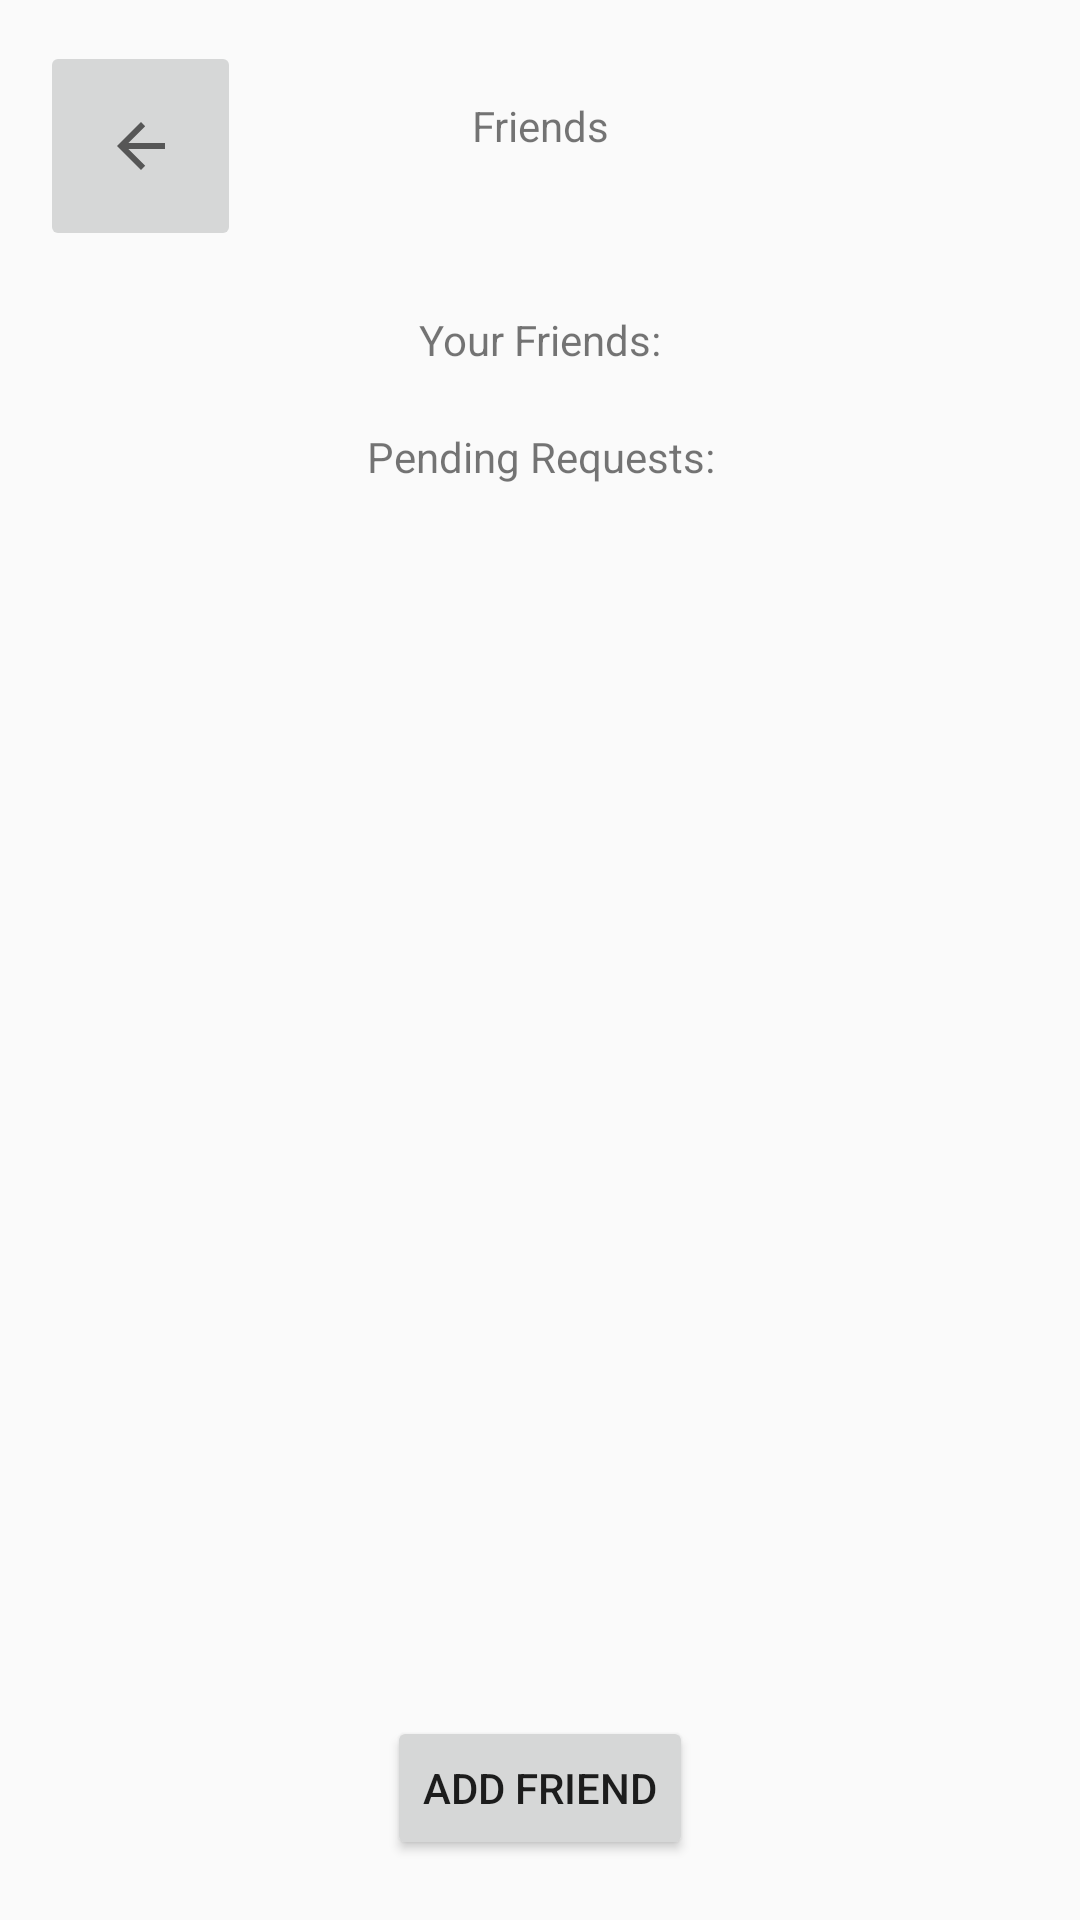

Named icons in this screenshot (1080*1920) and their centers, point (x, y):
Return to previous activity: point (140, 146)
